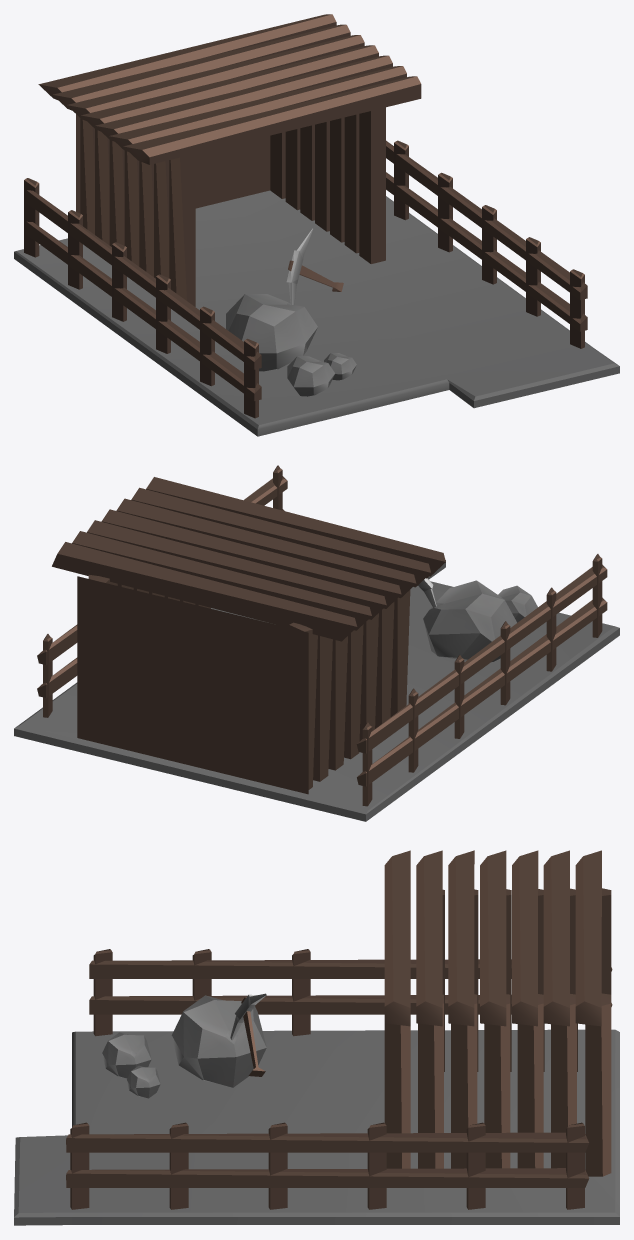
The model's file is mine_0lvl.fbx.
The picture shows the model from 3 angles, top to bottom: view 1: azimuth 30°, elevation 25°; view 2: azimuth 150°, elevation 25°; view 3: azimuth 270°, elevation 25°; orthographic projection. The views are drawn at different scales.
Visible parts, largest first — view 1: mine_0lvl; view 2: mine_0lvl; view 3: mine_0lvl.
Boxes of the visible parts, bbox=[...] form: mine_0lvl: bbox=[14, 14, 619, 436]; mine_0lvl: bbox=[14, 465, 619, 821]; mine_0lvl: bbox=[14, 850, 619, 1225].
Size of the model in its own units: 3.98 by 2.06 by 5.5.
